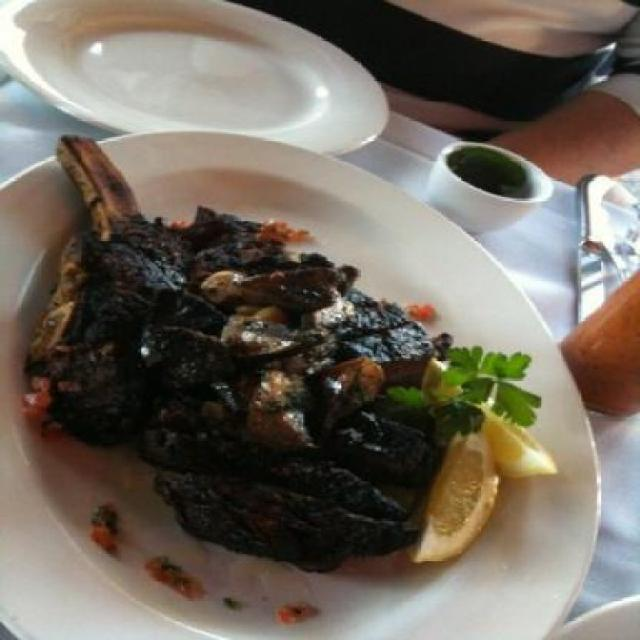Steak: (12, 122, 456, 554)
